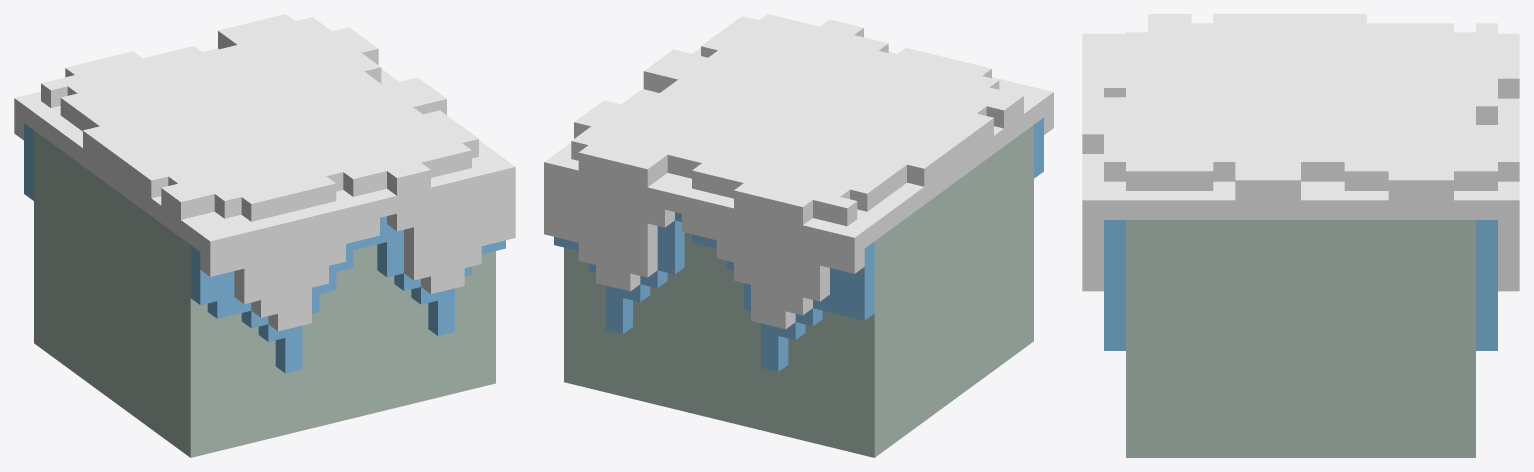
Rendered from Floors-22.obj.
The picture shows the model from 3 angles, left to right: view 1: azimuth 30°, elevation 25°; view 2: azimuth 150°, elevation 25°; view 3: azimuth 270°, elevation 25°; orthographic projection. The views are drawn at different scales.
Size of the model in its own units: 1.8 by 1.4 by 2.
